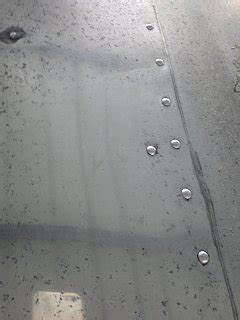rivet: (195, 249, 212, 268), (180, 187, 193, 202), (170, 138, 181, 150), (146, 145, 156, 158), (145, 22, 155, 34), (161, 96, 171, 108), (154, 58, 165, 68)
